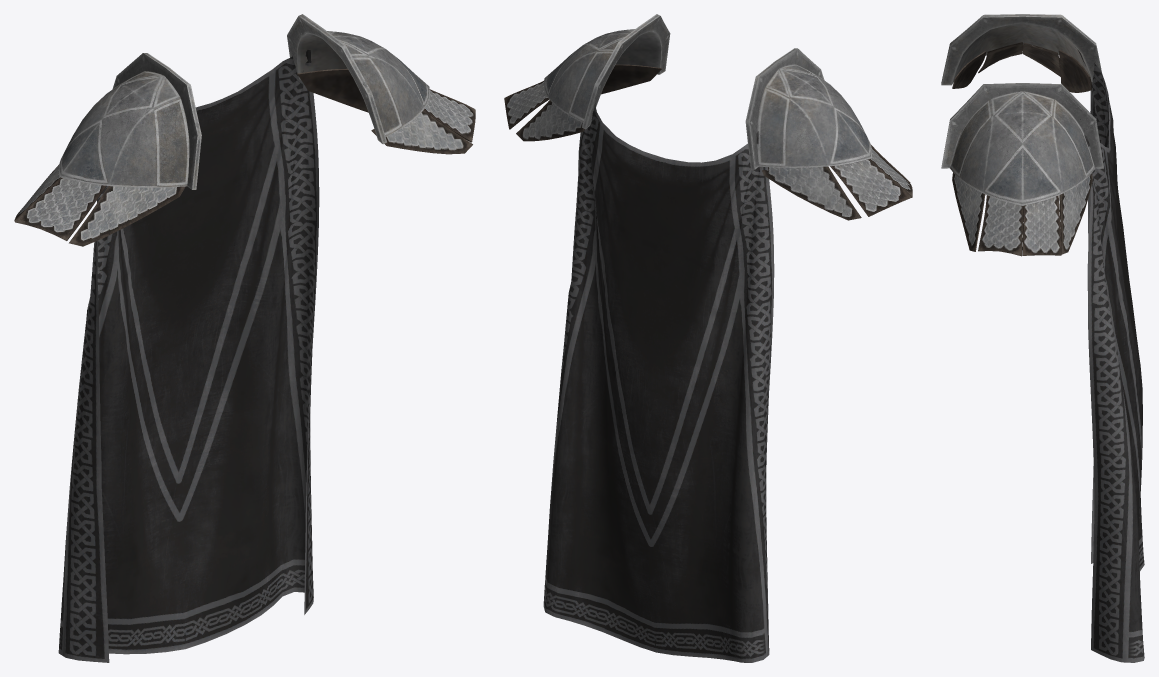
The model's file is sk_dwarf_erebor_pauldron_plate_cape_heavy_d.fbx.
3 renders of one model, left to right at view 1: azimuth 30°, elevation 25°; view 2: azimuth 150°, elevation 25°; view 3: azimuth 270°, elevation 25°, orthographic. The views are drawn at different scales.
Visible parts, largest first — view 1: sk_dwarf_erebor_pauldron_plate_cape_heavy_d.1, sk_dwarf_erebor_pauldron_plate_cape_heavy_d.0; view 2: sk_dwarf_erebor_pauldron_plate_cape_heavy_d.1, sk_dwarf_erebor_pauldron_plate_cape_heavy_d.0; view 3: sk_dwarf_erebor_pauldron_plate_cape_heavy_d.0, sk_dwarf_erebor_pauldron_plate_cape_heavy_d.1.
Part boxes in pixels (x1,y1,x2,y2): sk_dwarf_erebor_pauldron_plate_cape_heavy_d.1: [58, 50, 319, 662]; sk_dwarf_erebor_pauldron_plate_cape_heavy_d.0: [14, 14, 475, 246]; sk_dwarf_erebor_pauldron_plate_cape_heavy_d.1: [543, 103, 774, 662]; sk_dwarf_erebor_pauldron_plate_cape_heavy_d.0: [504, 14, 912, 220]; sk_dwarf_erebor_pauldron_plate_cape_heavy_d.0: [941, 14, 1103, 256]; sk_dwarf_erebor_pauldron_plate_cape_heavy_d.1: [1077, 49, 1144, 662].
Size of the model in its own units: 0.9002 by 0.3811 by 1.2.
2 materials, 2 textured.
